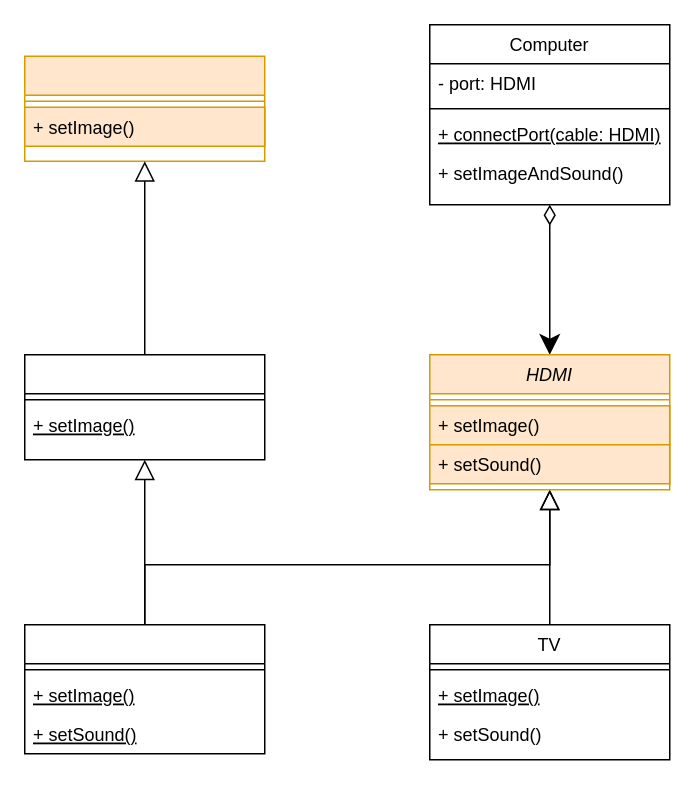
The diagram is 695 pixels wide and 785 high, and some of its shapes have lost their labels. Each missing label, with the box of its shape:
HDMIOldMonitorAdapter: (23, 623, 265, 754)
OldMonitor: (23, 353, 265, 460)
VGA: (23, 55, 265, 161)
